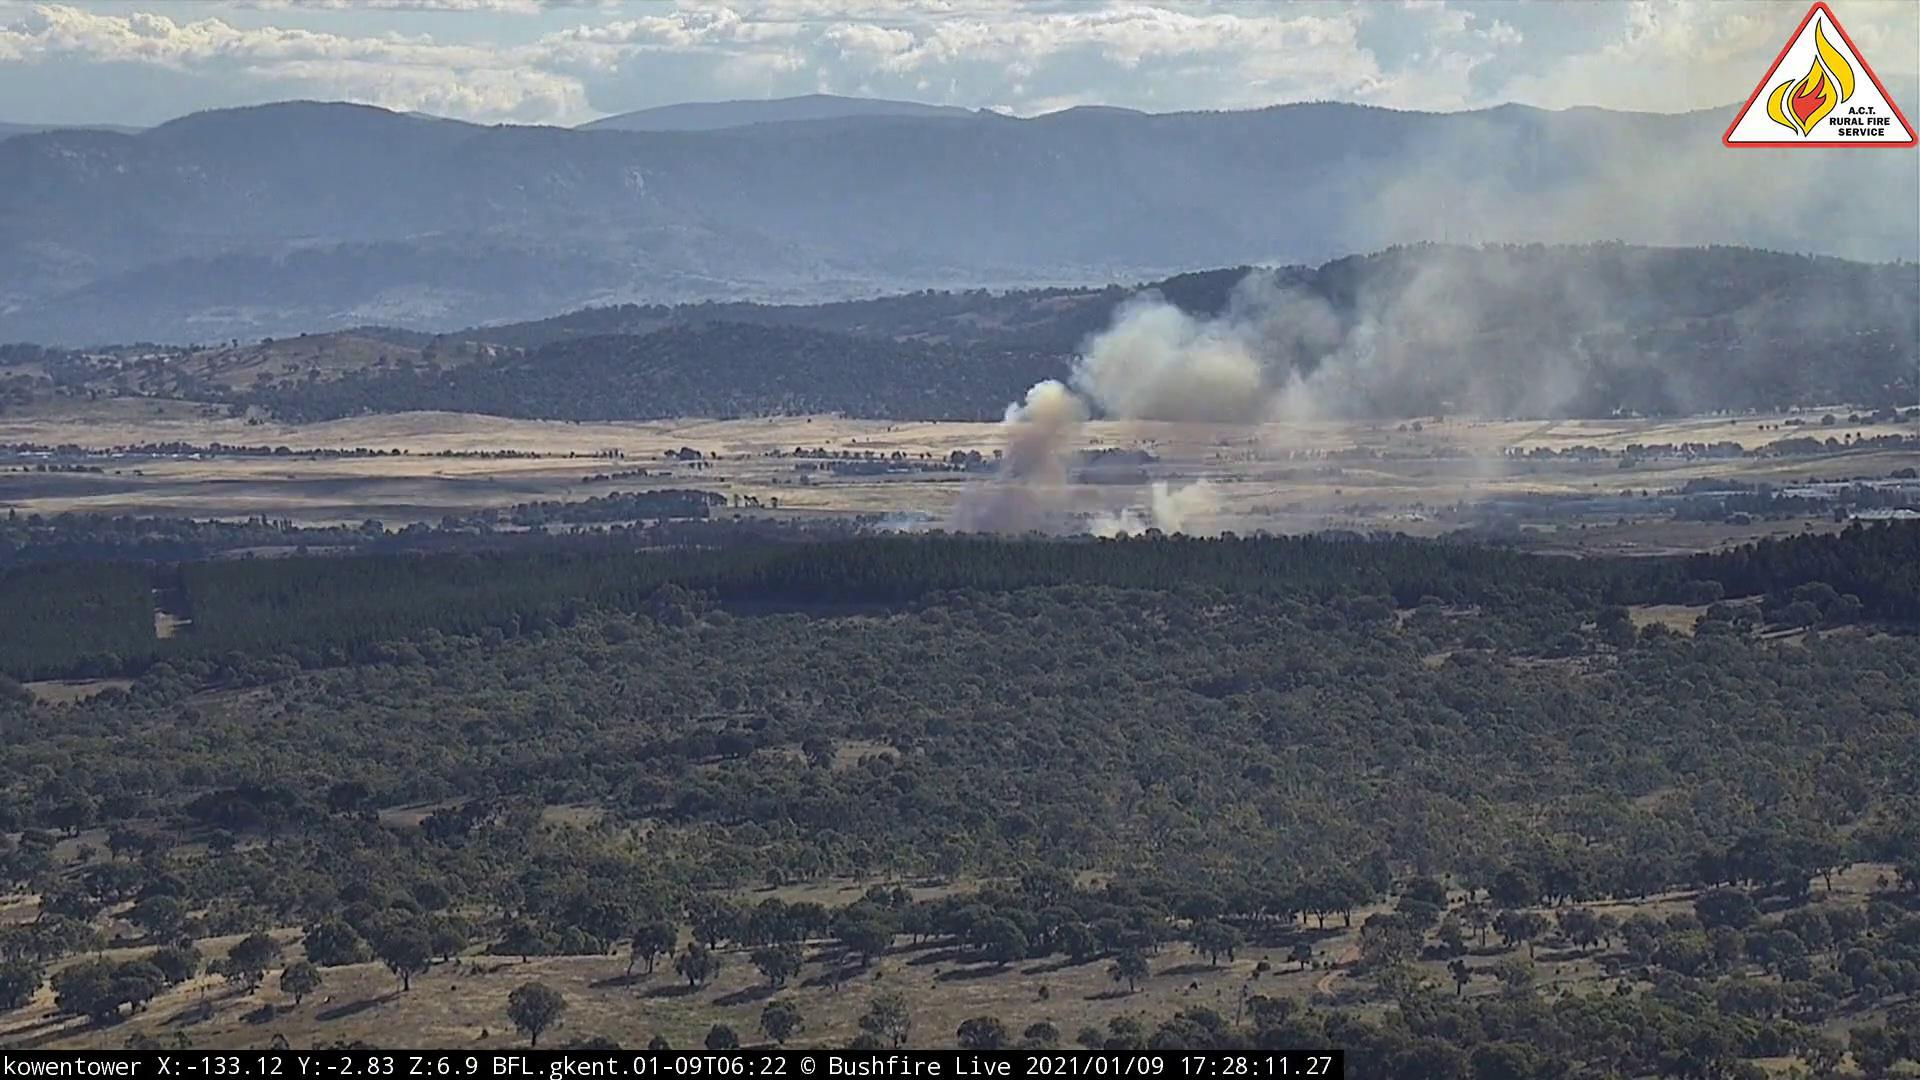Smoke: (873, 76, 1720, 542)
